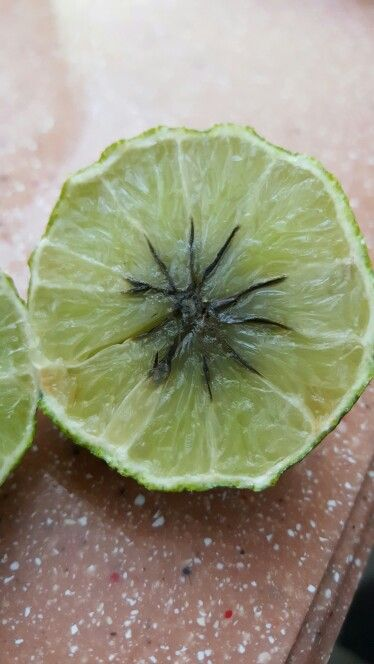damaged_lime: (38, 126, 374, 500)
